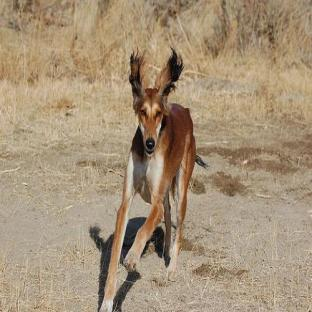Animal: (100, 48, 208, 310)
